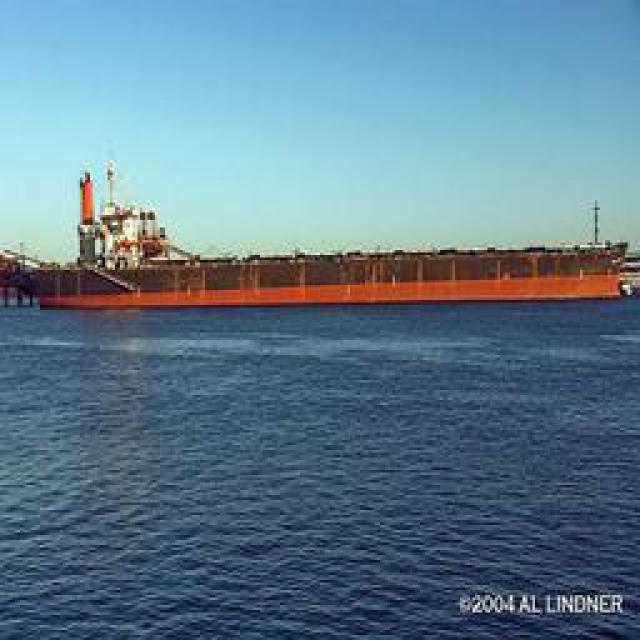Ship: (7, 246, 630, 311)
